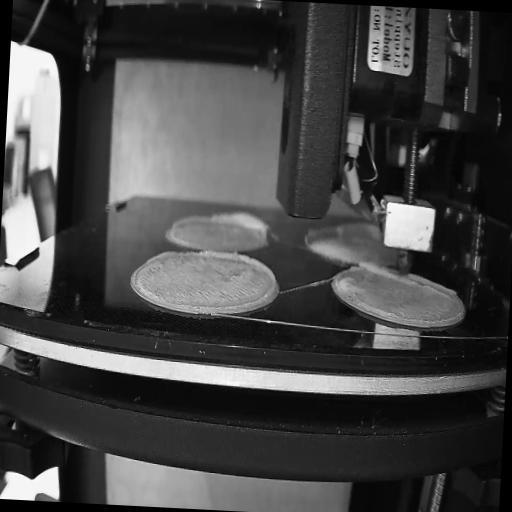over_extrusion: (198, 247, 278, 315), (212, 205, 274, 243), (405, 278, 454, 302), (359, 258, 400, 284), (168, 211, 208, 233), (146, 246, 180, 268)
